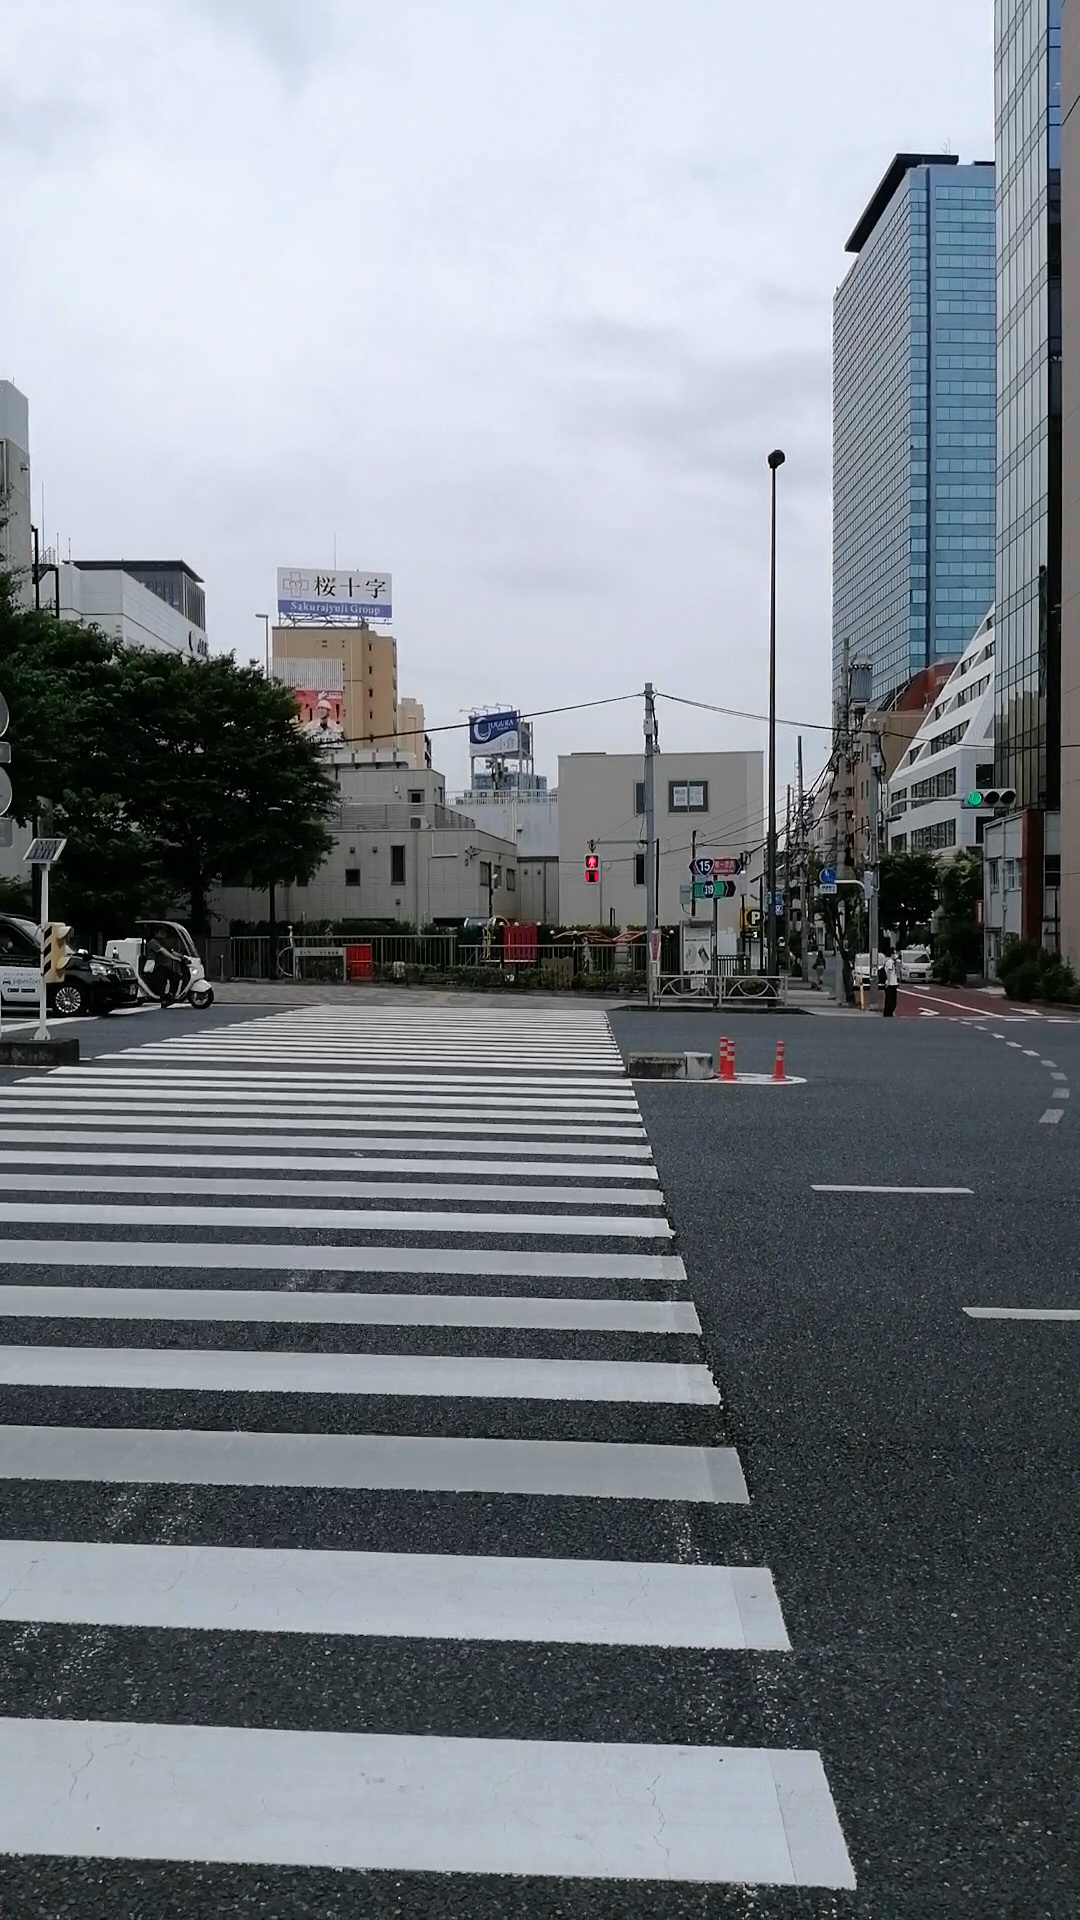red: (582, 853, 601, 886)
